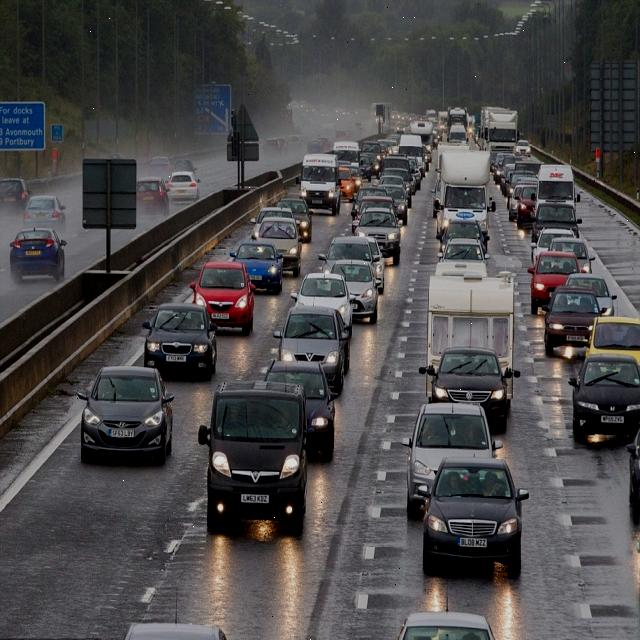Car: (198, 380, 313, 529), (421, 456, 529, 575), (403, 402, 507, 514), (78, 366, 174, 464), (424, 343, 515, 430), (260, 358, 337, 457), (567, 344, 640, 438), (274, 300, 349, 387), (142, 301, 222, 380), (191, 258, 259, 332), (541, 283, 609, 353), (318, 254, 380, 321), (528, 250, 584, 313), (228, 239, 288, 296), (8, 227, 66, 284), (394, 609, 497, 639), (347, 210, 402, 264), (560, 272, 612, 316), (533, 225, 584, 268), (251, 206, 301, 248), (625, 422, 640, 516), (23, 194, 67, 226), (353, 185, 395, 218), (137, 176, 171, 216), (166, 170, 201, 207), (508, 180, 538, 222), (377, 169, 412, 205), (365, 236, 387, 290), (0, 177, 32, 210), (358, 142, 386, 178), (333, 151, 360, 184), (497, 154, 522, 187), (144, 156, 173, 177), (171, 157, 199, 177), (431, 175, 443, 218), (376, 138, 398, 158), (264, 137, 288, 154), (320, 124, 338, 144), (175, 151, 197, 166), (306, 138, 326, 154), (386, 134, 402, 150), (390, 111, 403, 128), (334, 129, 348, 143), (335, 107, 354, 117), (289, 124, 302, 138), (396, 119, 408, 134), (314, 104, 327, 115), (287, 134, 301, 144), (400, 113, 410, 127), (287, 100, 301, 110), (415, 114, 427, 125), (318, 110, 331, 120), (474, 123, 481, 141), (354, 120, 364, 132), (299, 101, 309, 112), (408, 113, 418, 122), (110, 152, 124, 158), (308, 105, 316, 113)
Truck: (432, 146, 493, 247), (298, 150, 342, 217), (534, 162, 578, 227), (478, 107, 518, 157), (434, 141, 474, 179), (396, 132, 426, 176), (408, 120, 434, 151), (370, 102, 392, 131), (448, 105, 468, 134), (447, 123, 468, 147), (438, 110, 449, 132), (426, 109, 438, 124)
